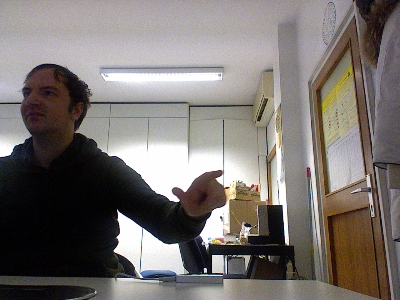枪: (170, 170, 227, 216)
